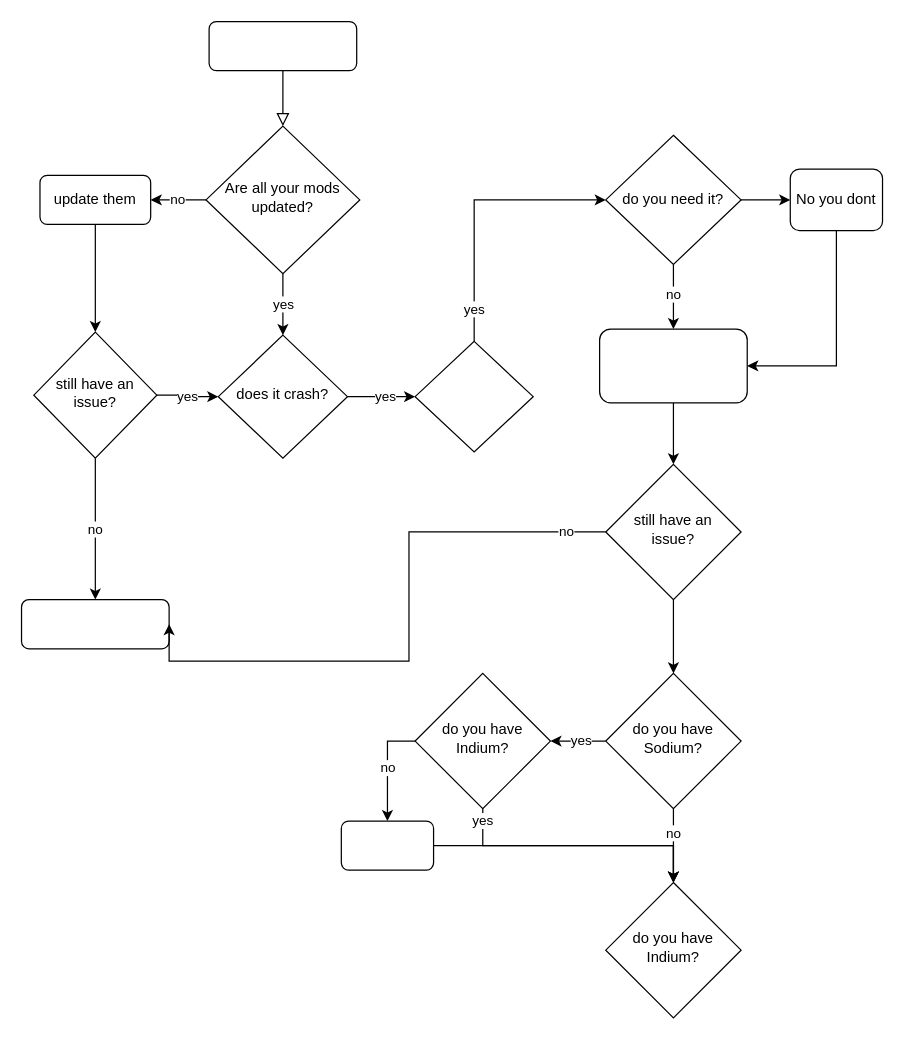
Some shapes in this 904 by 1039 pixel diagram are drawn without their labels. The centre of each missing label's shape, as x and y in pixels:
do you have Optifine?: (x=473, y=396)
I Have an issue: (x=282, y=45)
install it: (x=387, y=845)
uninstall Optifine: (x=672, y=365)
You are good!: (x=94, y=623)
